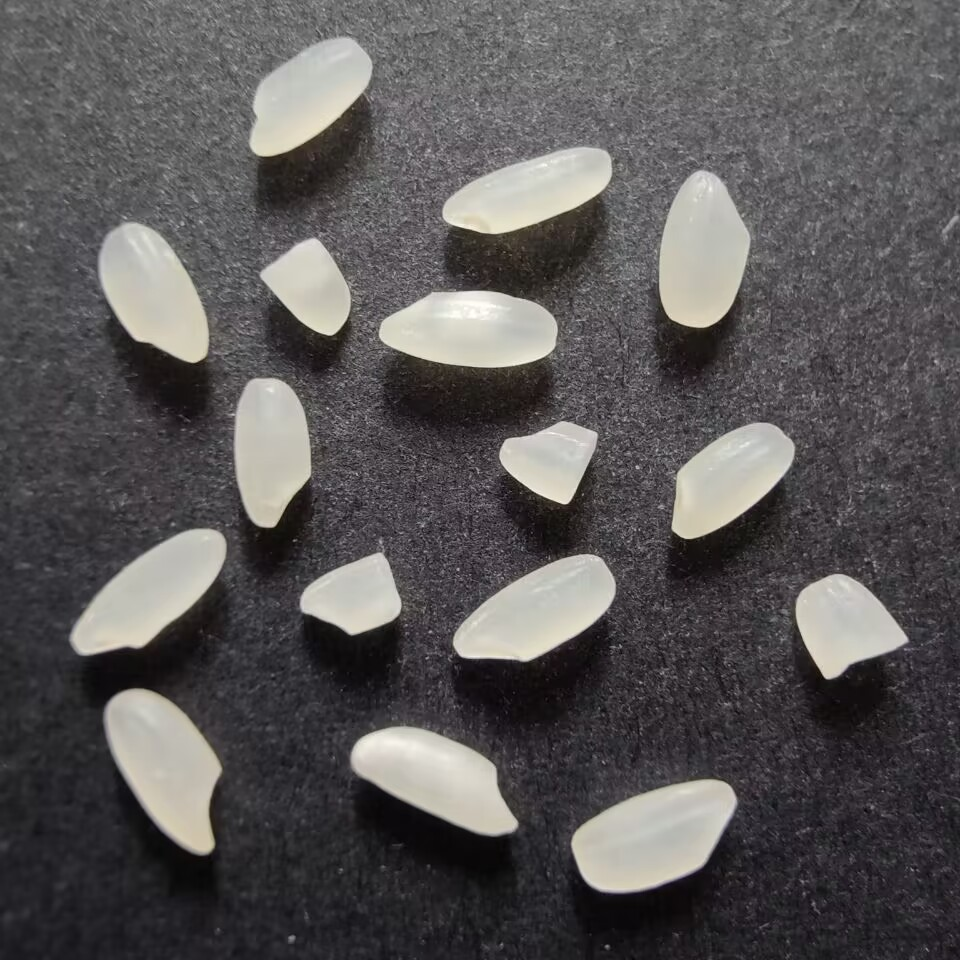broken: (791, 568, 912, 684), (254, 233, 354, 339), (492, 417, 601, 511), (295, 549, 405, 642)
rice: (96, 686, 225, 860), (64, 525, 232, 657), (345, 725, 522, 846), (566, 774, 736, 895), (448, 550, 622, 667), (93, 218, 213, 366), (666, 416, 798, 543), (242, 36, 377, 160), (654, 165, 752, 334), (438, 144, 616, 236), (375, 287, 562, 369), (229, 373, 315, 533)
